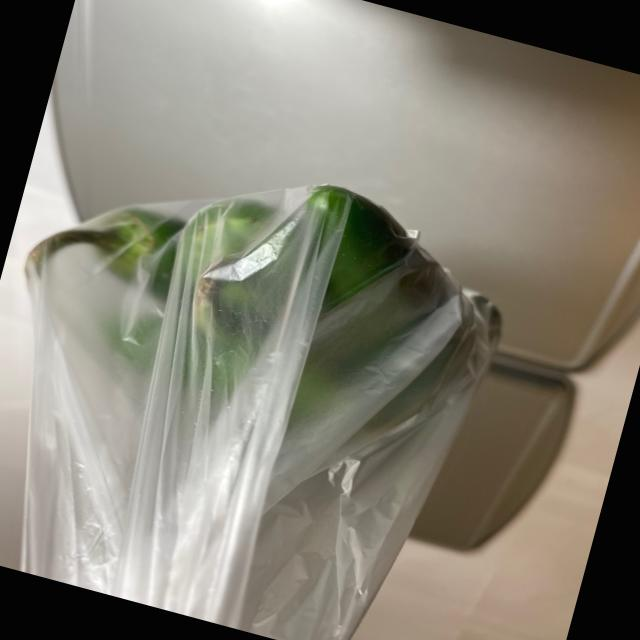chilli: (0, 110, 548, 516)
